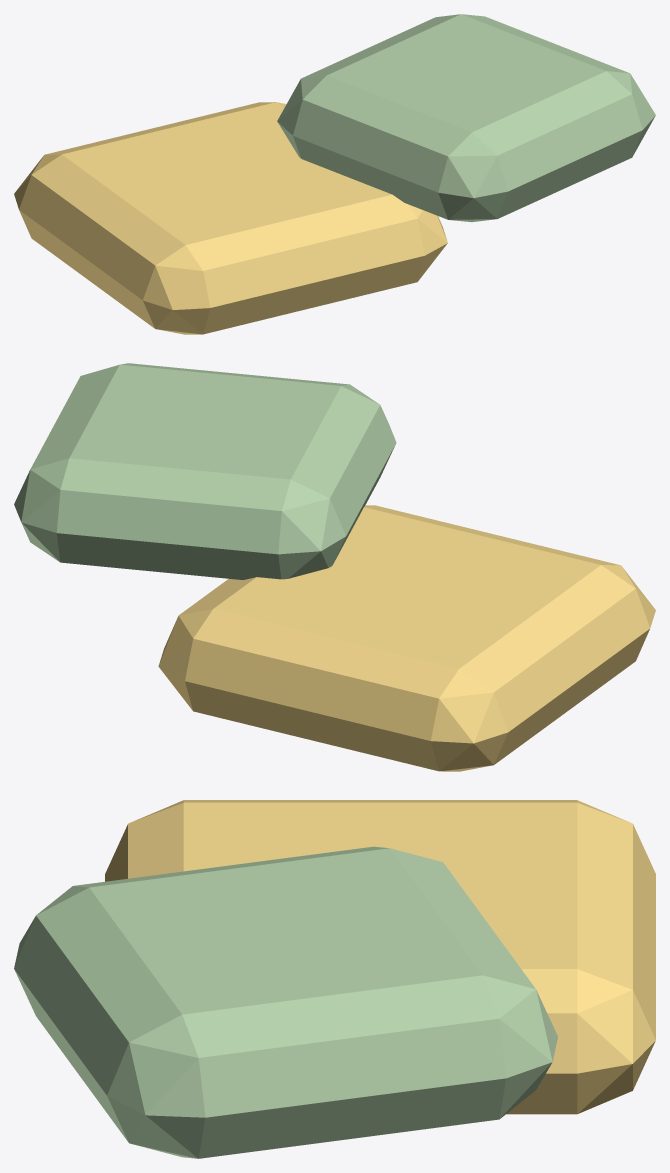
File: cozy-home-interiors-cushion-set-8fb0327f.glb
The picture shows the model from 3 angles, top to bottom: view 1: azimuth 30°, elevation 25°; view 2: azimuth 150°, elevation 25°; view 3: azimuth 270°, elevation 25°; orthographic projection. The views are drawn at different scales.
Visible parts, largest first — view 1: cushion-set; view 2: cushion-set; view 3: cushion-set.
Part boxes in pixels (x1,y1,x2,y2): cushion-set: (14, 14, 655, 334); cushion-set: (14, 363, 655, 771); cushion-set: (14, 800, 655, 1158).
Size of the model in its own units: 0.5879 by 0.18 by 0.4079.
